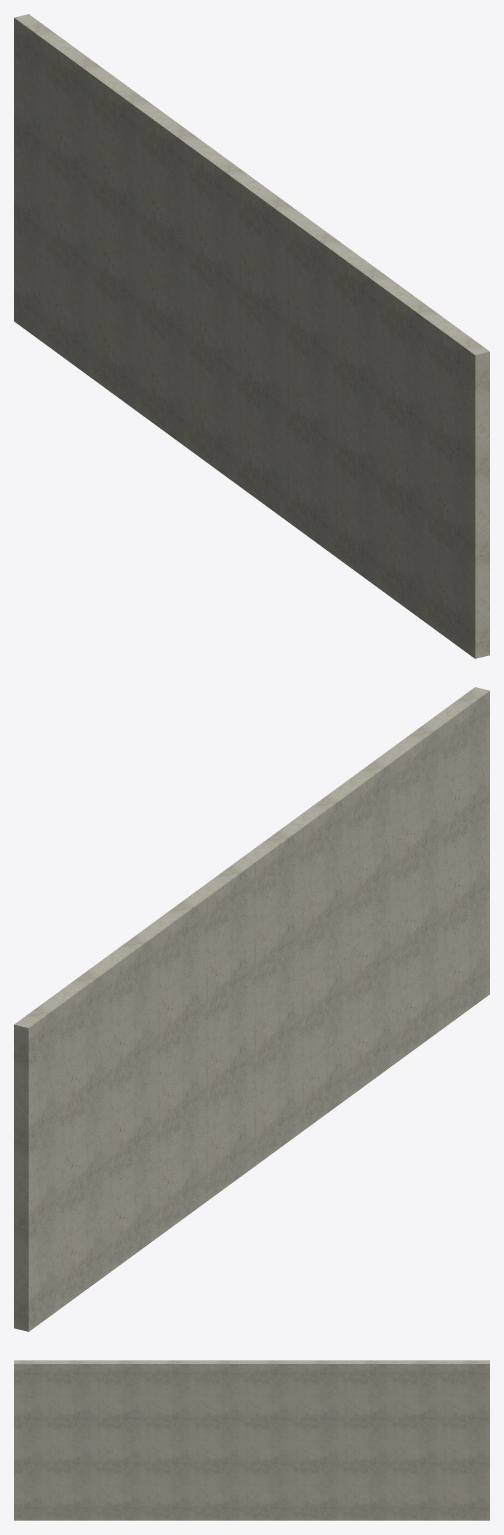
The model's file is souplongwall031.obj.
The picture shows the model from 3 angles, top to bottom: view 1: azimuth 30°, elevation 25°; view 2: azimuth 150°, elevation 25°; view 3: azimuth 270°, elevation 25°; orthographic projection. The views are drawn at different scales.
Visible parts, largest first — view 1: souplongwall031_high_1; view 2: souplongwall031_high_1; view 3: souplongwall031_high_1.
Part boxes in pixels (x1=…): souplongwall031_high_1: x1=14, y1=14, x2=489, y2=658; souplongwall031_high_1: x1=14, y1=687, x2=489, y2=1331; souplongwall031_high_1: x1=14, y1=1360, x2=489, y2=1520.
Bounding box in the file's own units: 0.1504 × 2.95 × 8.11.
